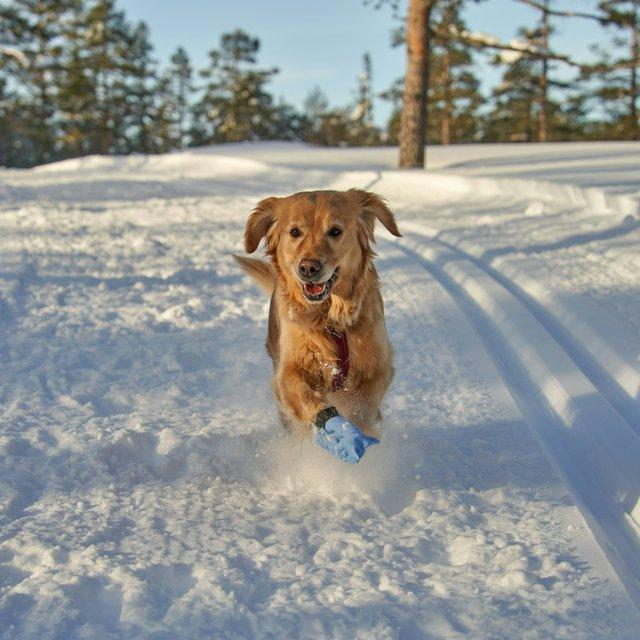retriever: (228, 186, 402, 463)
